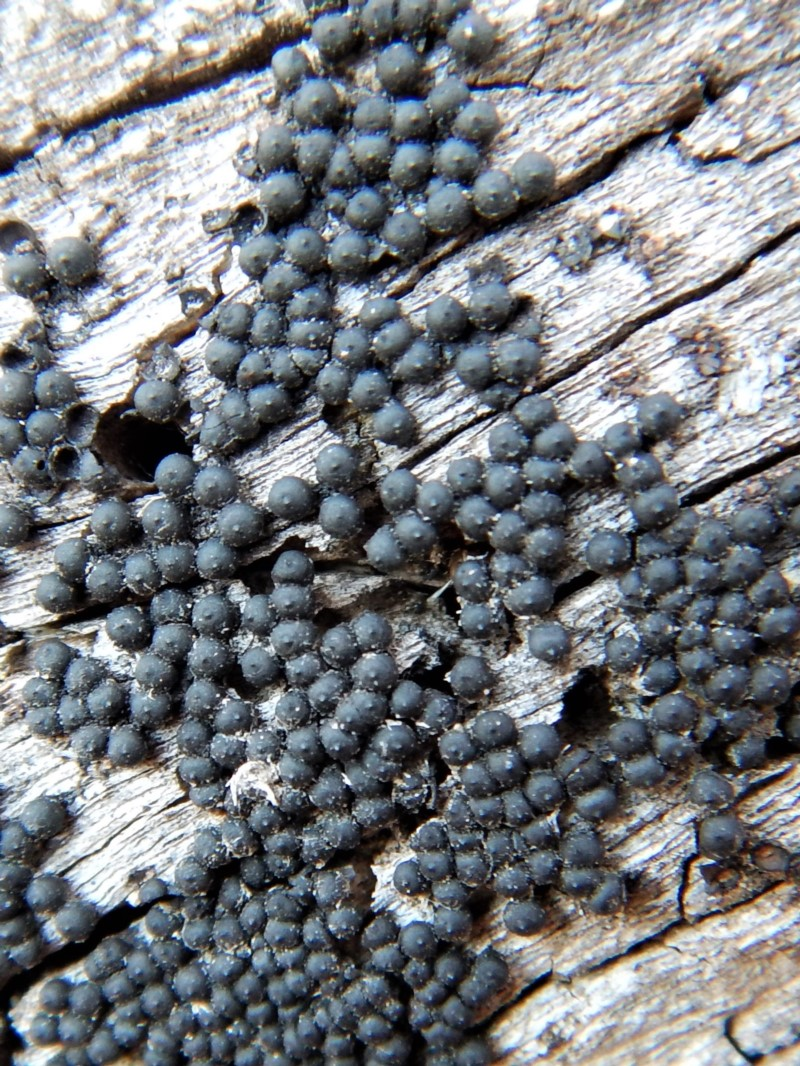pudricion radicular: (71, 4, 765, 1041)
